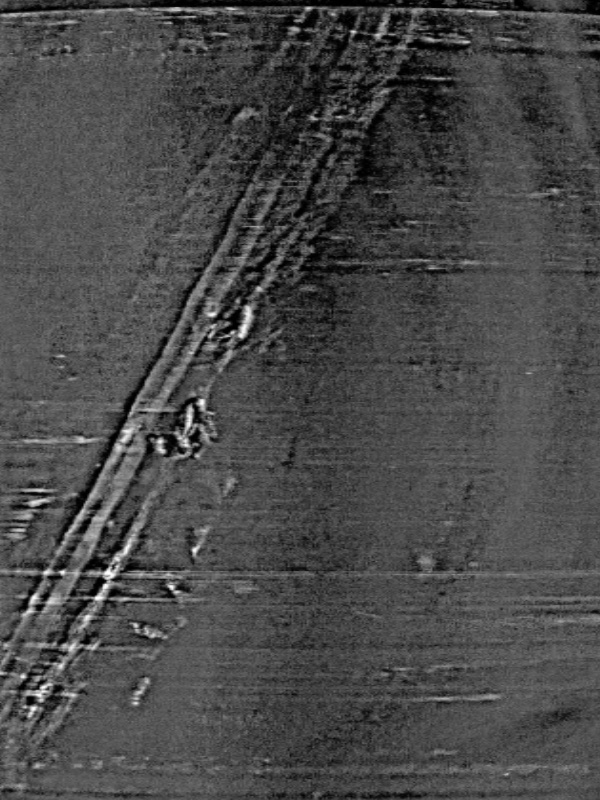splice_vulcanized: (1, 6, 420, 788)
